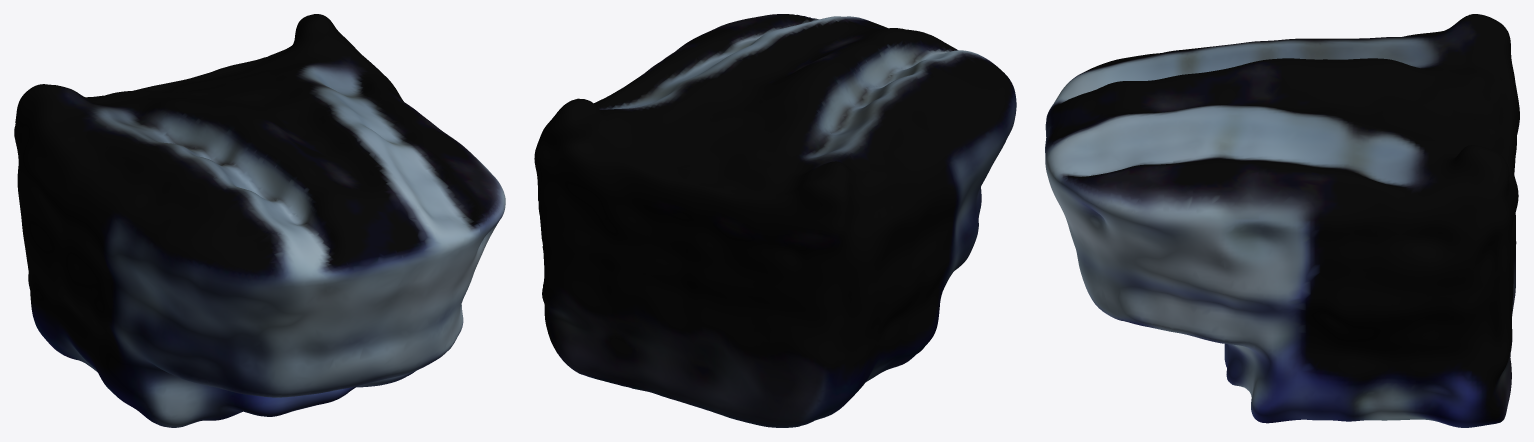
The model's file is backpack.glb.
3 renders of one model, left to right at view 1: azimuth 30°, elevation 25°; view 2: azimuth 150°, elevation 25°; view 3: azimuth 270°, elevation 25°, orthographic. The views are drawn at different scales.
Bounding box in the file's own units: 0.8847 × 0.6997 × 0.9995.
